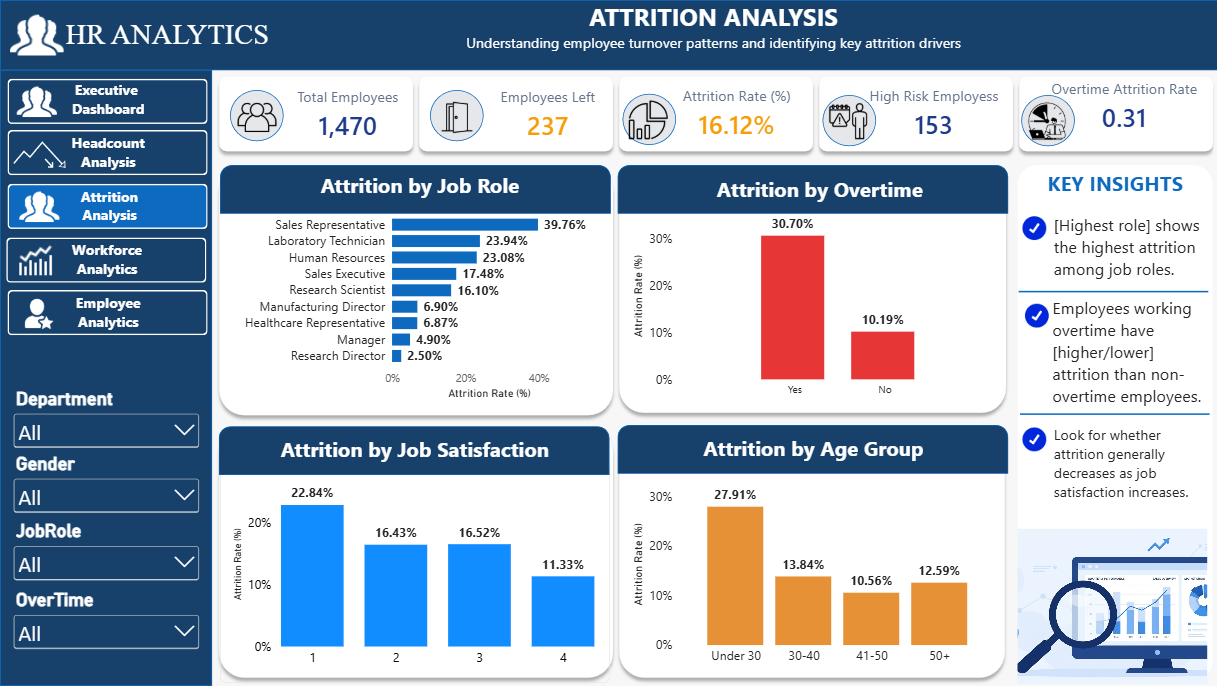

What the dashboard file says about the page in this screenshot:
{"tool":"powerbi","page":{"name":"ATTRITION ANALYSIS","canvas":[1600,900],"ordinal":2},"visuals":[{"type":"shape","box":[0,92.2,278.1,807.8],"z":0},{"type":"shape","box":[0,0,1600,92.2],"z":1000},{"type":"shape","box":[278.1,92.2,271.9,115.6],"z":2000},{"type":"shape","box":[540.6,92.2,271.9,115.6],"z":3000},{"type":"shape","box":[803.1,92.2,271.9,115.6],"z":4000},{"type":"shape","box":[1065.6,92.2,271.9,115.6],"z":5000},{"type":"shape","box":[1328.1,92.2,271.9,115.6],"z":6000},{"type":"shape","box":[278.1,207.8,534.4,345.3],"z":7000},{"type":"shape","box":[803.1,207.8,525,342.2],"z":8000},{"type":"shape","box":[9.4,103.1,262.5,59.4],"z":9000},{"type":"shape","box":[278.1,550,534.4,346.9],"z":10000},{"type":"shape","box":[803.1,550,523.4,346.9],"z":11000},{"type":"shape","box":[1334.4,215.6,256.2,676.6],"z":12000},{"type":"cardVisual","fields":{"Data":["_Measures.Total Employees"]},"box":[371.9,101.6,168.8,98.4],"z":13000},{"type":"cardVisual","fields":{"Data":["_Measures.Employees Left"]},"box":[634.4,101.6,168.8,98.4],"z":14000},{"type":"cardVisual","fields":{"Data":["_Measures.Attrition Rate (%)"]},"box":[867.2,100,198.4,98.4],"z":15000},{"type":"cardVisual","fields":{"Data":["_Measures.High Risk Employess"]},"box":[1123.4,100,204.7,98.4],"z":16000},{"type":"cardVisual","fields":{"Data":["_Measures.Overtime Attrition Rate"]},"box":[1359.4,92.2,231.2,98.4],"z":17000},{"type":"shape","box":[301.6,118.8,70.3,67.2],"z":18000},{"type":"shape","box":[564.1,118.8,70.3,67.2],"z":19000},{"type":"clusteredBarChart","fields":{"Category":["HR Dataset.JobRole"],"Y":["_Measures.Attrition Rate (%)"]},"box":[290.6,256.2,509.4,284.4],"z":20000},{"type":"columnChart","fields":{"Category":["HR Dataset.OverTime"],"Y":["_Measures.Attrition Rate (%)"]},"box":[812.5,256.2,514.1,284.4],"z":21000},{"type":"columnChart","fields":{"Category":["HR Dataset.JobSatisfaction"],"Y":["_Measures.Attrition Rate (%)"]},"box":[289.1,607.8,510.9,287.5],"z":22000},{"type":"columnChart","fields":{"Category":["HR Dataset.Age Group"],"Y":["_Measures.Attrition Rate (%)"]},"box":[812.5,607.8,509.4,284.4],"z":23000},{"type":"shape","box":[289.1,215.6,512.5,64.1],"z":24000},{"type":"shape","box":[809.4,217.2,512.5,64.1],"z":25000},{"type":"shape","box":[287.5,559.4,512.5,64.1],"z":26000},{"type":"shape","box":[809.4,557.8,512.5,64.1],"z":27000},{"type":"slicer","fields":{"Values":["HR Dataset.Gender"]},"box":[12.5,593.8,253.1,82.8],"z":28000},{"type":"slicer","fields":{"Values":["HR Dataset.JobRole"]},"box":[12.5,681.2,253.1,82.8],"z":29000},{"type":"slicer","fields":{"Values":["HR Dataset.OverTime"]},"box":[12.5,771.9,253.1,82.8],"z":30000},{"type":"shape","box":[9.4,240.6,262.5,59.4],"z":31000},{"type":"shape","box":[7.8,310.9,262.5,59.4],"z":32000},{"type":"shape","box":[9.4,379.7,262.5,59.4],"z":33000},{"type":"textbox","box":[10.9,104.7,260.9,53.1],"z":34000},{"type":"textbox","box":[12.5,243.8,260.9,53.1],"z":35000},{"type":"textbox","box":[9.4,314.1,260.9,53.1],"z":36000},{"type":"textbox","box":[10.9,382.8,260.9,53.1],"z":37000},{"type":"textbox","box":[550,0,770.3,92.2],"z":38000},{"type":"textbox","box":[82.8,23.4,271.9,68.8],"z":39000},{"type":"textbox","box":[314.1,225,471.9,45.3],"z":40000},{"type":"textbox","box":[839.1,229.7,471.9,45.3],"z":41000},{"type":"textbox","box":[307.8,570.3,471.9,45.3],"z":42000},{"type":"textbox","box":[831.2,568.8,471.9,45.3],"z":43000},{"type":"textbox","box":[1337.5,221.9,250,45.3],"z":44000},{"type":"textbox","box":[1381.2,279.7,206.2,90.6],"z":45000},{"type":"textbox","box":[1379.7,389.1,206.2,146.9],"z":46000},{"type":"textbox","box":[1381.2,557.8,201.6,103.1],"z":47000},{"type":"shape","box":[1335.9,375,248.4,14.1],"z":48000},{"type":"shape","box":[1337.5,535.9,248.4,14.1],"z":49000},{"type":"image","box":[310.9,115.6,51.6,75],"z":50000},{"type":"image","box":[573.4,115.6,51.6,75],"z":51000},{"type":"image","box":[12.5,9.4,70.3,75],"z":52000},{"type":"image","box":[1339.1,282.8,34.4,31.2],"z":53000},{"type":"image","box":[1342.2,398.4,34.4,31.2],"z":54000},{"type":"image","box":[1339.1,560.9,34.4,31.2],"z":55000},{"type":"image","box":[15.6,245.3,70.3,53.1],"z":56000},{"type":"image","box":[10.9,314.1,70.3,53.1],"z":57000},{"type":"image","box":[12.5,382.8,70.3,53.1],"z":58000},{"type":"image","box":[12.5,107.8,70.3,53.1],"z":59000},{"type":"image","box":[1334.4,693.8,248.4,203.1],"z":60000},{"type":"shape","box":[9.4,170.3,262.5,59.4],"z":61000},{"type":"textbox","box":[10.9,173.4,260.9,53.1],"z":62000},{"type":"image","box":[15.6,175,70.3,53.1],"z":63000},{"type":"slicer","fields":{"Values":["HR Dataset.Department"]},"box":[12.5,507.8,253.1,82.8],"z":64000},{"type":"shape","box":[815.7,122.3,70.3,67.2],"z":65000},{"type":"image","box":[825,119.2,51.6,75],"z":66000},{"type":"shape","box":[1078.1,124,70.3,67.2],"z":67000},{"type":"image","box":[1087.4,120.8,51.6,75],"z":68000},{"type":"shape","box":[1338.9,123.9,70.3,67.2],"z":69000},{"type":"image","box":[1348.2,120.8,51.6,75],"z":70000},{"type":"actionButton","box":[8.2,103.3,264.7,58.8],"z":70001},{"type":"actionButton","box":[8.2,168.9,264.7,58.8],"z":70002},{"type":"actionButton","box":[6.6,311.5,264.7,58.8],"z":70003},{"type":"actionButton","box":[8.2,378.7,264.7,58.8],"z":70004}]}

Visuals, with their boxes in screenshot pixels (x1, y1, x2, y2), scaled from the page's 1600x900 canvas onto the 1217x686 screenshot:
shape: (0, 70, 212, 685)
shape: (0, 0, 1216, 70)
shape: (212, 70, 418, 158)
shape: (411, 70, 618, 158)
shape: (611, 70, 818, 158)
shape: (811, 70, 1017, 158)
shape: (1010, 70, 1216, 158)
shape: (212, 158, 618, 422)
shape: (611, 158, 1010, 419)
shape: (7, 79, 207, 124)
shape: (212, 419, 618, 684)
shape: (611, 419, 1009, 684)
shape: (1015, 164, 1210, 680)
cardVisual - _Measures.Total Employees: (283, 77, 411, 152)
cardVisual - _Measures.Employees Left: (483, 77, 611, 152)
cardVisual - _Measures.Attrition Rate (%): (660, 76, 811, 151)
cardVisual - _Measures.High Risk Employess: (854, 76, 1010, 151)
cardVisual - _Measures.Overtime Attrition Rate: (1034, 70, 1210, 145)
shape: (229, 91, 283, 142)
shape: (429, 91, 483, 142)
clusteredBarChart - HR Dataset.JobRole x _Measures.Attrition Rate (%): (221, 195, 608, 412)
columnChart - HR Dataset.OverTime x _Measures.Attrition Rate (%): (618, 195, 1009, 412)
columnChart - HR Dataset.JobSatisfaction x _Measures.Attrition Rate (%): (220, 463, 608, 682)
columnChart - HR Dataset.Age Group x _Measures.Attrition Rate (%): (618, 463, 1005, 680)
shape: (220, 164, 610, 213)
shape: (616, 166, 1005, 214)
shape: (219, 426, 608, 475)
shape: (616, 425, 1005, 474)
slicer - HR Dataset.Gender: (10, 453, 202, 516)
slicer - HR Dataset.JobRole: (10, 519, 202, 582)
slicer - HR Dataset.OverTime: (10, 588, 202, 651)
shape: (7, 183, 207, 229)
shape: (6, 237, 206, 282)
shape: (7, 289, 207, 335)
textbox: (8, 80, 207, 120)
textbox: (10, 186, 208, 226)
textbox: (7, 239, 206, 280)
textbox: (8, 292, 207, 332)
textbox: (418, 0, 1004, 70)
textbox: (63, 18, 270, 70)
textbox: (239, 172, 598, 206)
textbox: (638, 175, 997, 210)
textbox: (234, 435, 593, 469)
textbox: (632, 434, 991, 468)
textbox: (1017, 169, 1207, 204)
textbox: (1051, 213, 1207, 282)
textbox: (1049, 297, 1206, 409)
textbox: (1051, 425, 1204, 504)
shape: (1016, 286, 1205, 297)
shape: (1017, 408, 1206, 419)
image: (236, 88, 276, 145)
image: (436, 88, 475, 145)
image: (10, 7, 63, 64)
image: (1019, 216, 1045, 239)
image: (1021, 304, 1047, 327)
image: (1019, 428, 1045, 451)
image: (12, 187, 65, 227)
image: (8, 239, 62, 280)
image: (10, 292, 63, 332)
image: (10, 82, 63, 123)
image: (1015, 529, 1204, 684)
shape: (7, 130, 207, 175)
textbox: (8, 132, 207, 173)
image: (12, 133, 65, 174)
slicer - HR Dataset.Department: (10, 387, 202, 450)
shape: (620, 93, 674, 144)
image: (628, 91, 667, 148)
shape: (820, 95, 874, 146)
image: (827, 92, 866, 149)
shape: (1018, 94, 1072, 146)
image: (1025, 92, 1065, 149)
actionButton: (6, 79, 208, 124)
actionButton: (6, 129, 208, 174)
actionButton: (5, 237, 206, 282)
actionButton: (6, 289, 208, 333)
